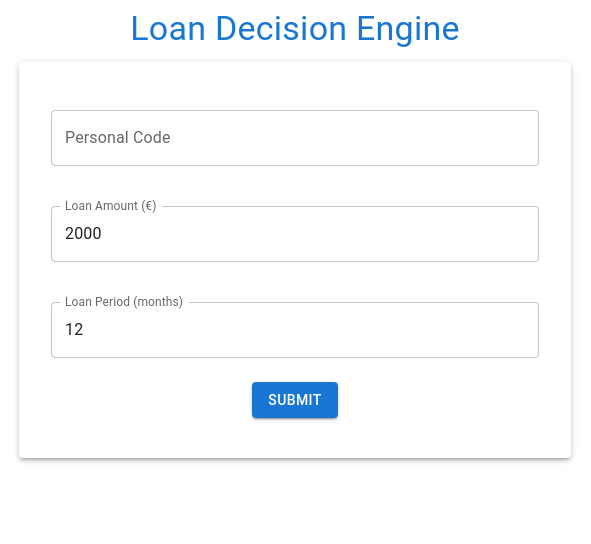
App Component › displays an error message if the API request fails
The image size is (591, 544).
Type "49002010998" into the field labelled "Personal Code". click: (295, 138)
box: [51,110,539,166]
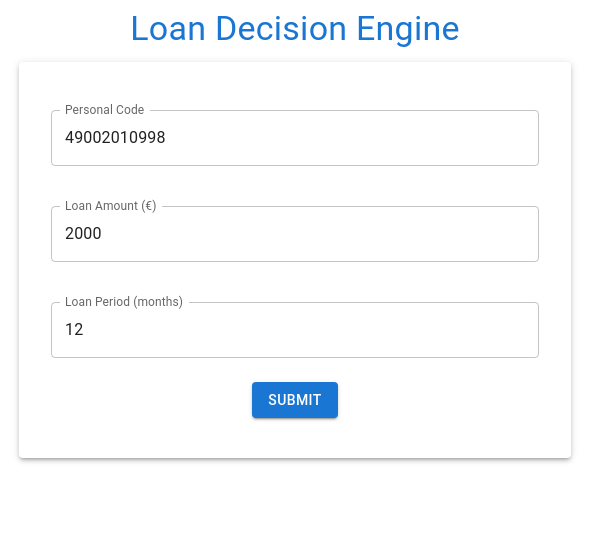
Replace the text in the number field labelled "Loan Amount (€)" with "5000". click: (295, 234)
box: [51,206,539,262]
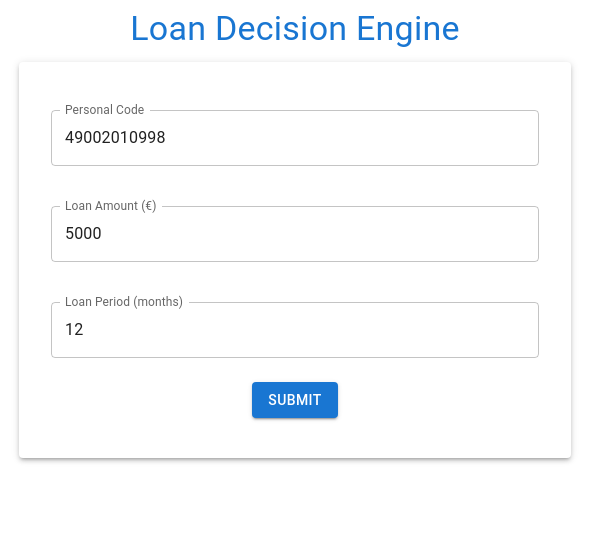
Replace the text in the number field labelled "Loan Period (months)" with "24". click: (295, 330)
box: [51,302,539,358]
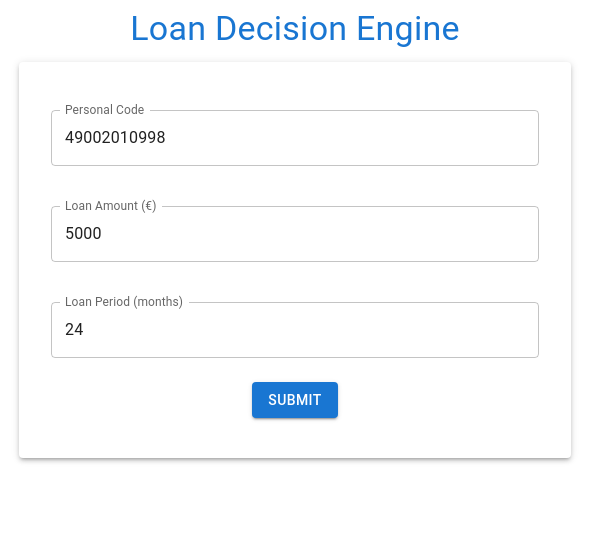
Click the button "Submit". click: (295, 400)
box: [252,382,338,418]
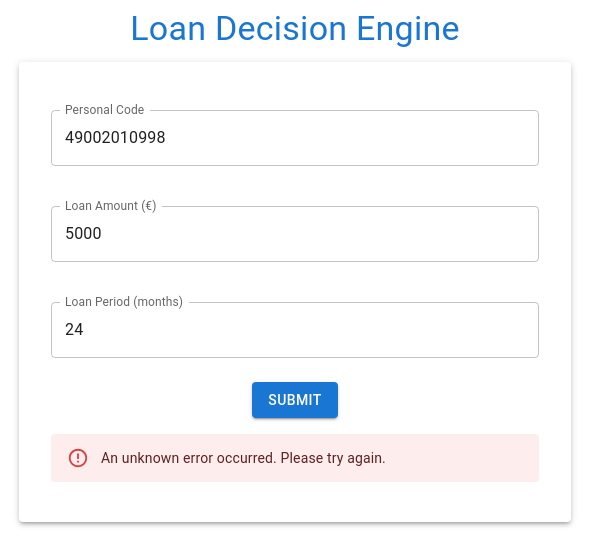
Now the text "An unknown error occurred. Please try again." is shown, box [101,450,386,466]
